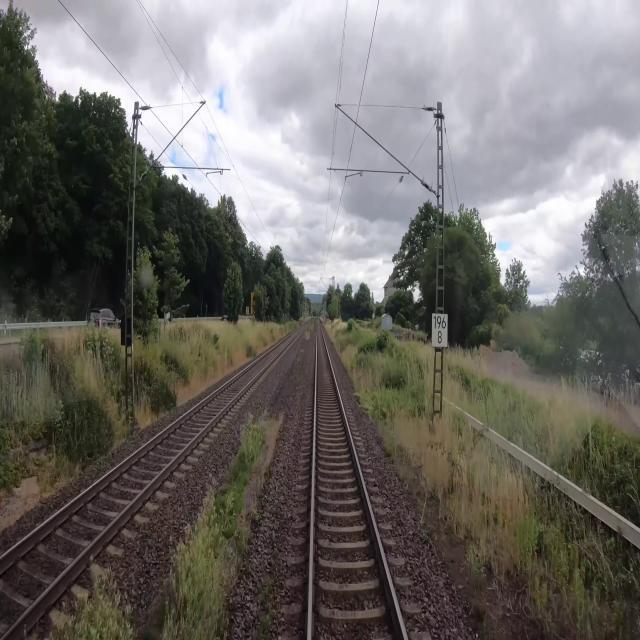Plant: (154, 411, 270, 639), (42, 561, 138, 639), (252, 575, 281, 638)
